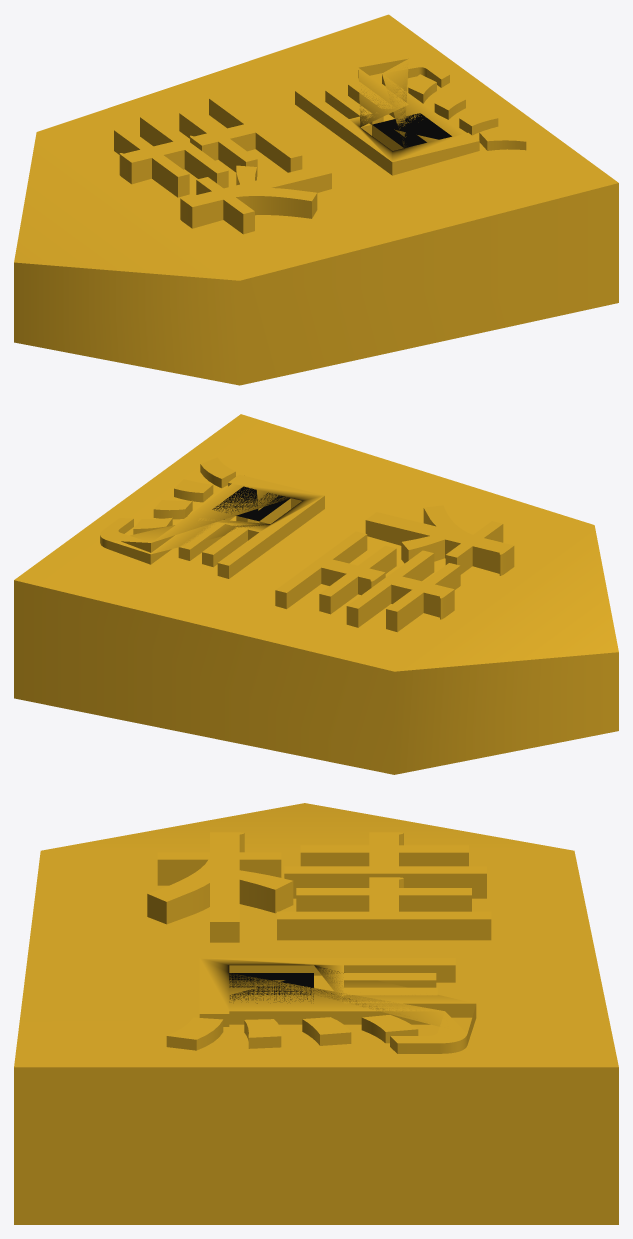
Rendered from knight.fbx.
3 renders of one model, top to bottom at view 1: azimuth 30°, elevation 25°; view 2: azimuth 150°, elevation 25°; view 3: azimuth 270°, elevation 25°, orthographic. The views are drawn at different scales.
Visible parts, largest first — view 1: pCube1, typeMesh1; view 2: pCube1, typeMesh1; view 3: pCube1, typeMesh1.
Boxes of the visible parts, x1=… form: pCube1: x1=14, y1=14, x2=618, y2=385; typeMesh1: x1=114, y1=58, x2=526, y2=234; pCube1: x1=14, y1=414, x2=618, y2=774; typeMesh1: x1=100, y1=457, x2=514, y2=632; pCube1: x1=14, y1=803, x2=618, y2=1224; typeMesh1: x1=147, y1=832, x2=491, y2=1053.
Size of the model in its own units: 6.47 by 1.59 by 5.22.
